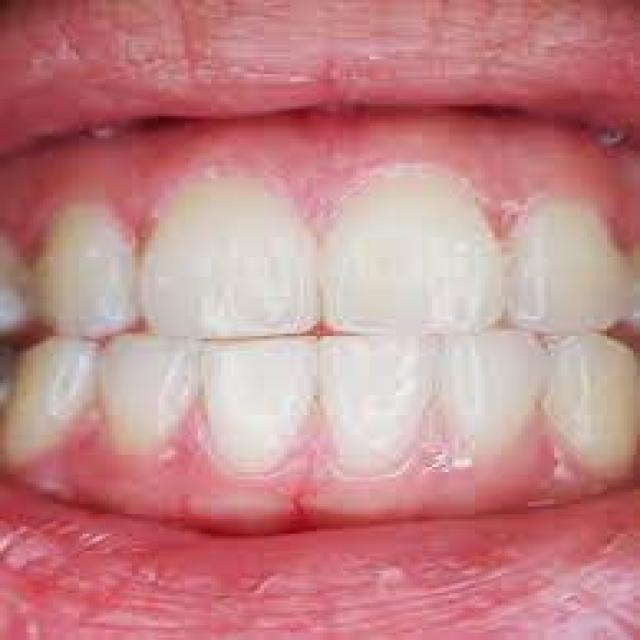tooth: (145, 173, 317, 336), (326, 185, 494, 331), (40, 210, 132, 334), (320, 346, 419, 457), (445, 343, 541, 450), (514, 222, 614, 324), (208, 351, 297, 447), (554, 348, 630, 455), (99, 353, 175, 442), (23, 353, 83, 442), (4, 254, 26, 334)
